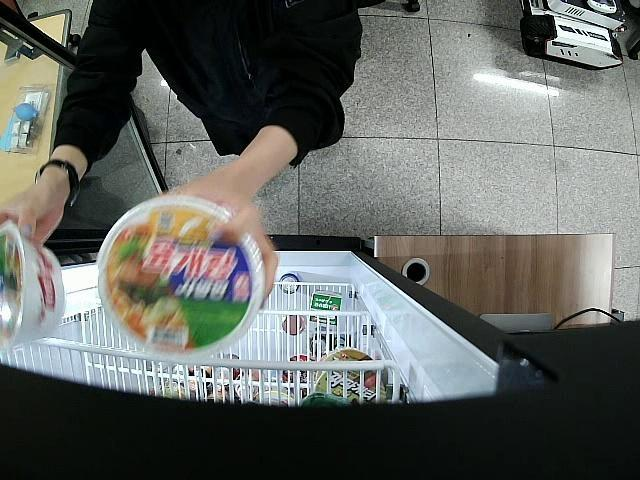09_yukGaeJang: (96, 194, 264, 359), (0, 220, 65, 347)
